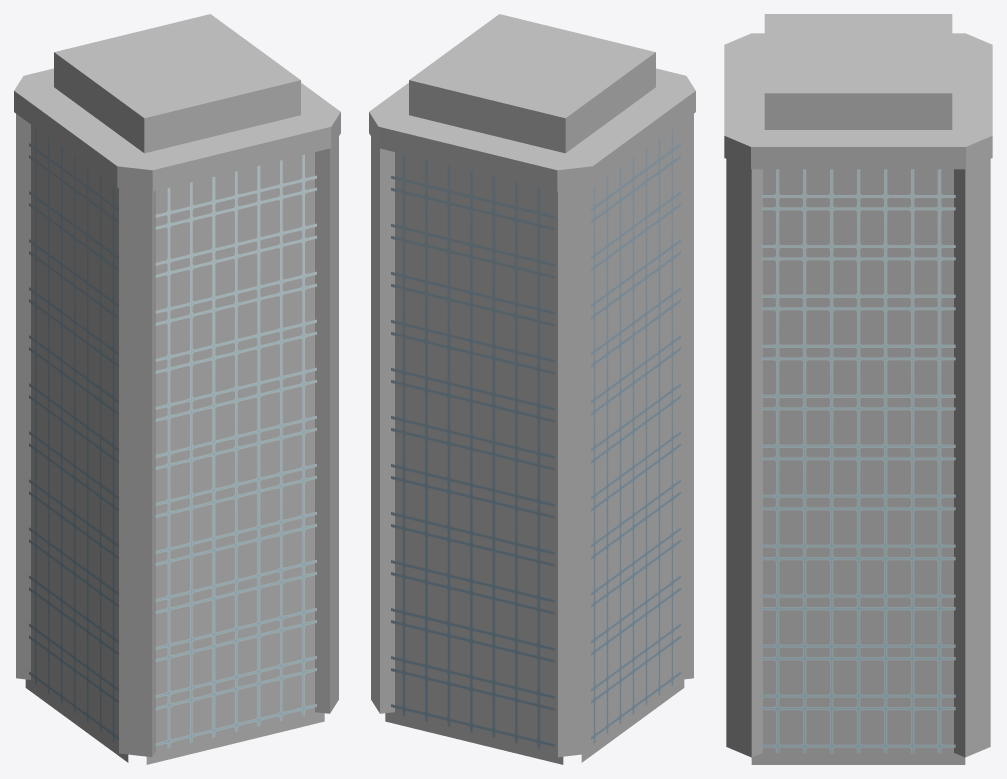
Rendered from bg_common_longmodel_008.fbx.
The picture shows the model from 3 angles, left to right: view 1: azimuth 30°, elevation 25°; view 2: azimuth 150°, elevation 25°; view 3: azimuth 270°, elevation 25°; orthographic projection. The views are drawn at different scales.
Parts seen in each view (by area): view 1: bg_common_longmodel_008; view 2: bg_common_longmodel_008; view 3: bg_common_longmodel_008.
Part boxes in pixels (x1,y1,x2,y2): bg_common_longmodel_008: (14,14,340,764); bg_common_longmodel_008: (369,14,695,764); bg_common_longmodel_008: (724,14,992,764).
Bounding box in the file's own units: 1800 × 4883 × 1800.
